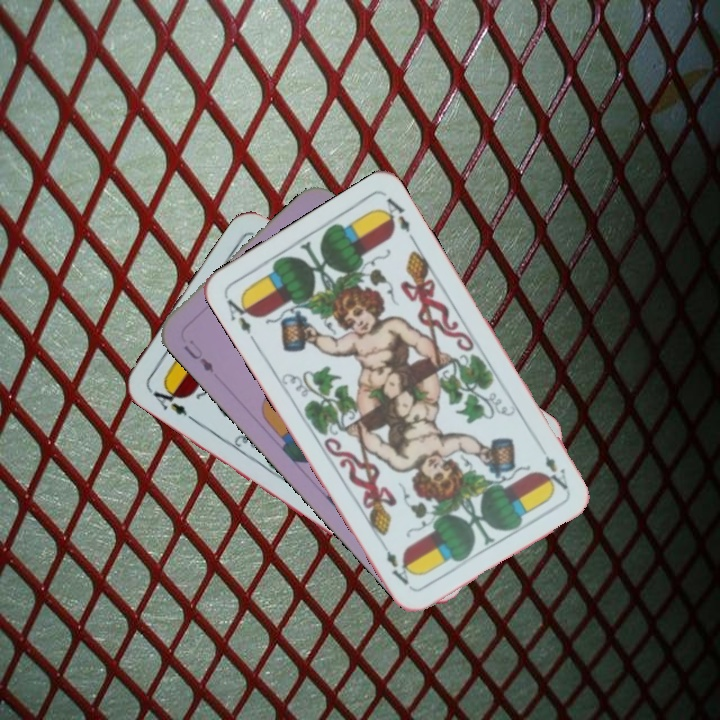EA: (144, 380, 196, 423), (221, 292, 257, 337), (540, 451, 571, 493)
EU: (179, 335, 217, 376)
